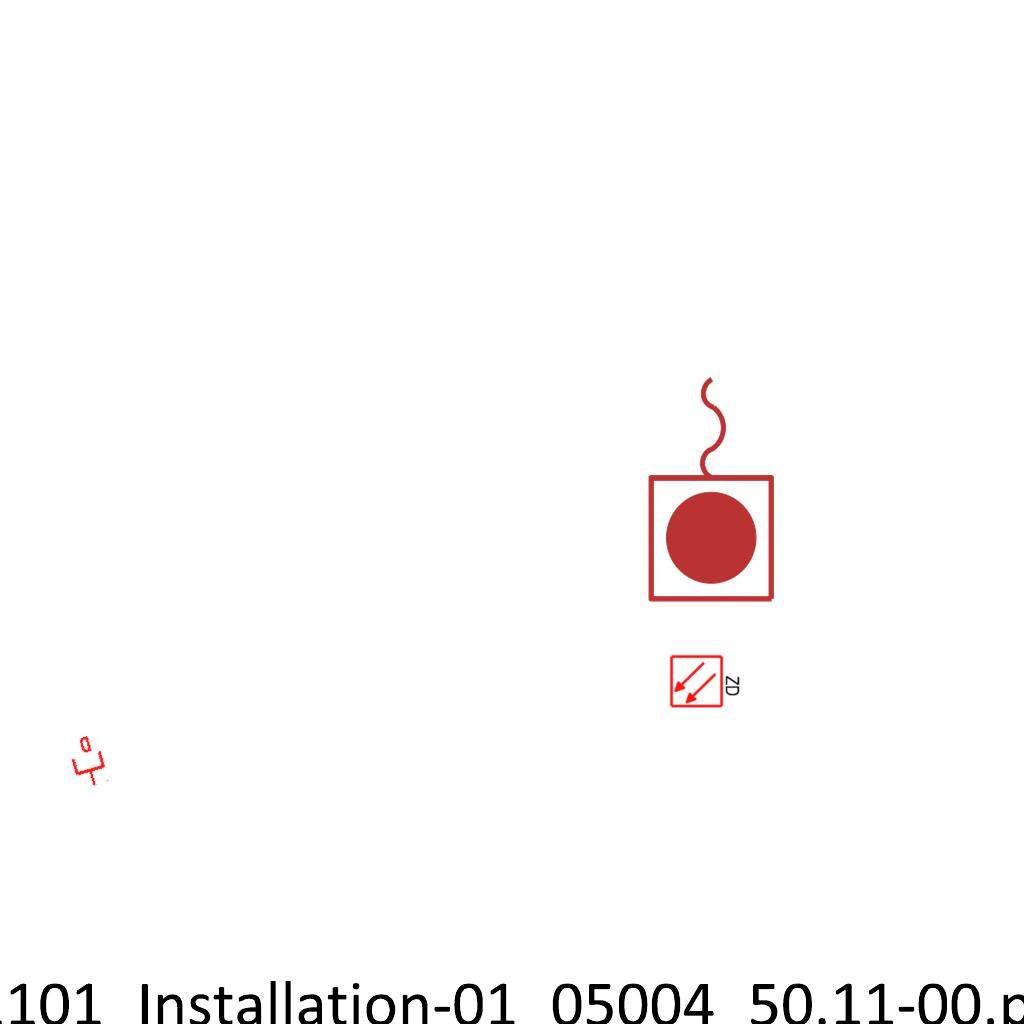Datenanschluss_einfach: (64, 733, 112, 791)
ZD_Melder_in_Zwischendecke_mit_Revisionsoeffnung_mind_40_x_40_cm: (669, 652, 743, 709)
Zugtaster: (641, 366, 785, 610)
